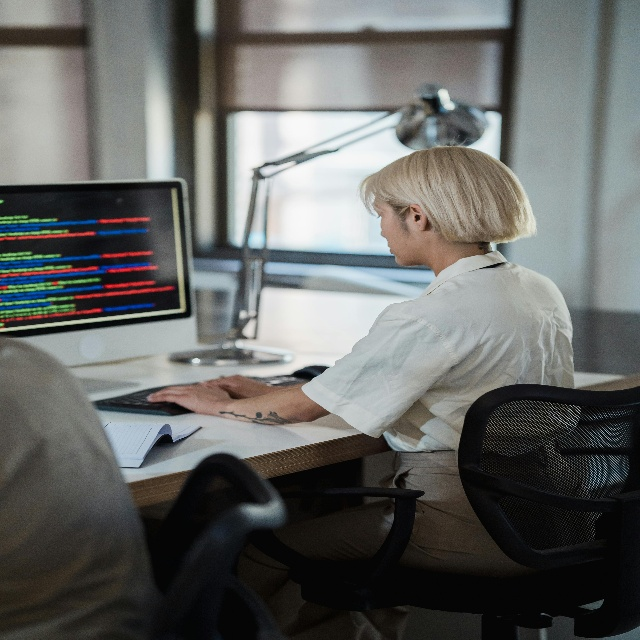Sin_guantes: (147, 381, 229, 416), (208, 375, 263, 399)
